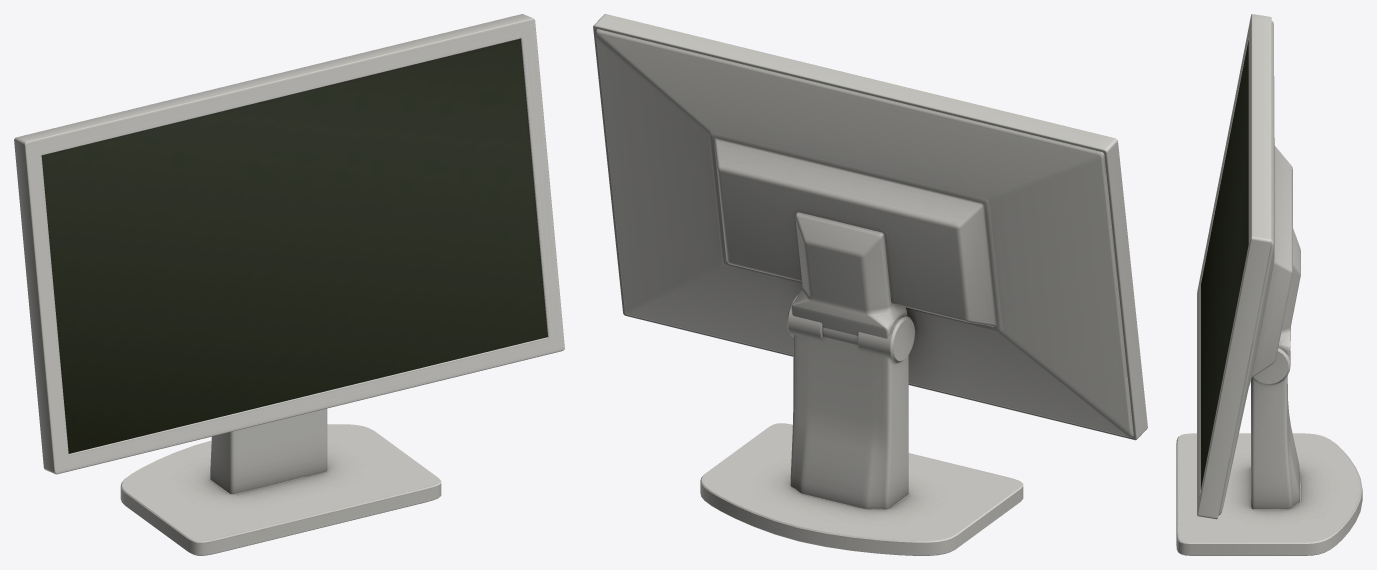
File: 21'5-Inch-WideMonitor.fbx
3 views of the same model, side by side, from view 1: azimuth 30°, elevation 25°; view 2: azimuth 150°, elevation 25°; view 3: azimuth 270°, elevation 25° (orthographic). The views are drawn at different scales.
Visible parts, largest first — view 1: _21_5-Inch-WideMonitor; view 2: _21_5-Inch-WideMonitor; view 3: _21_5-Inch-WideMonitor.
Boxes of the visible parts, box(x1,y1,x2,y2) form: _21_5-Inch-WideMonitor: box(14, 14, 564, 555); _21_5-Inch-WideMonitor: box(593, 14, 1147, 555); _21_5-Inch-WideMonitor: box(1176, 14, 1362, 555).
Bounding box in the file's own units: 50.78 × 39.69 × 17.81.
1 material, 1 textured.
